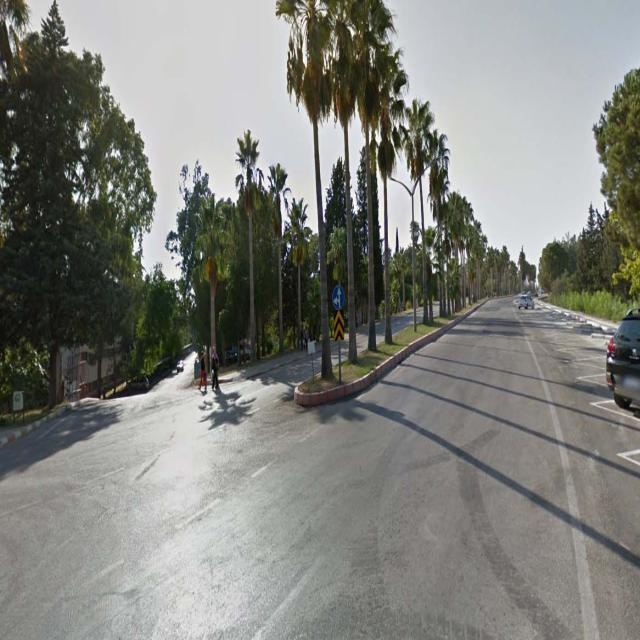ilerisol: (332, 284, 344, 308)
